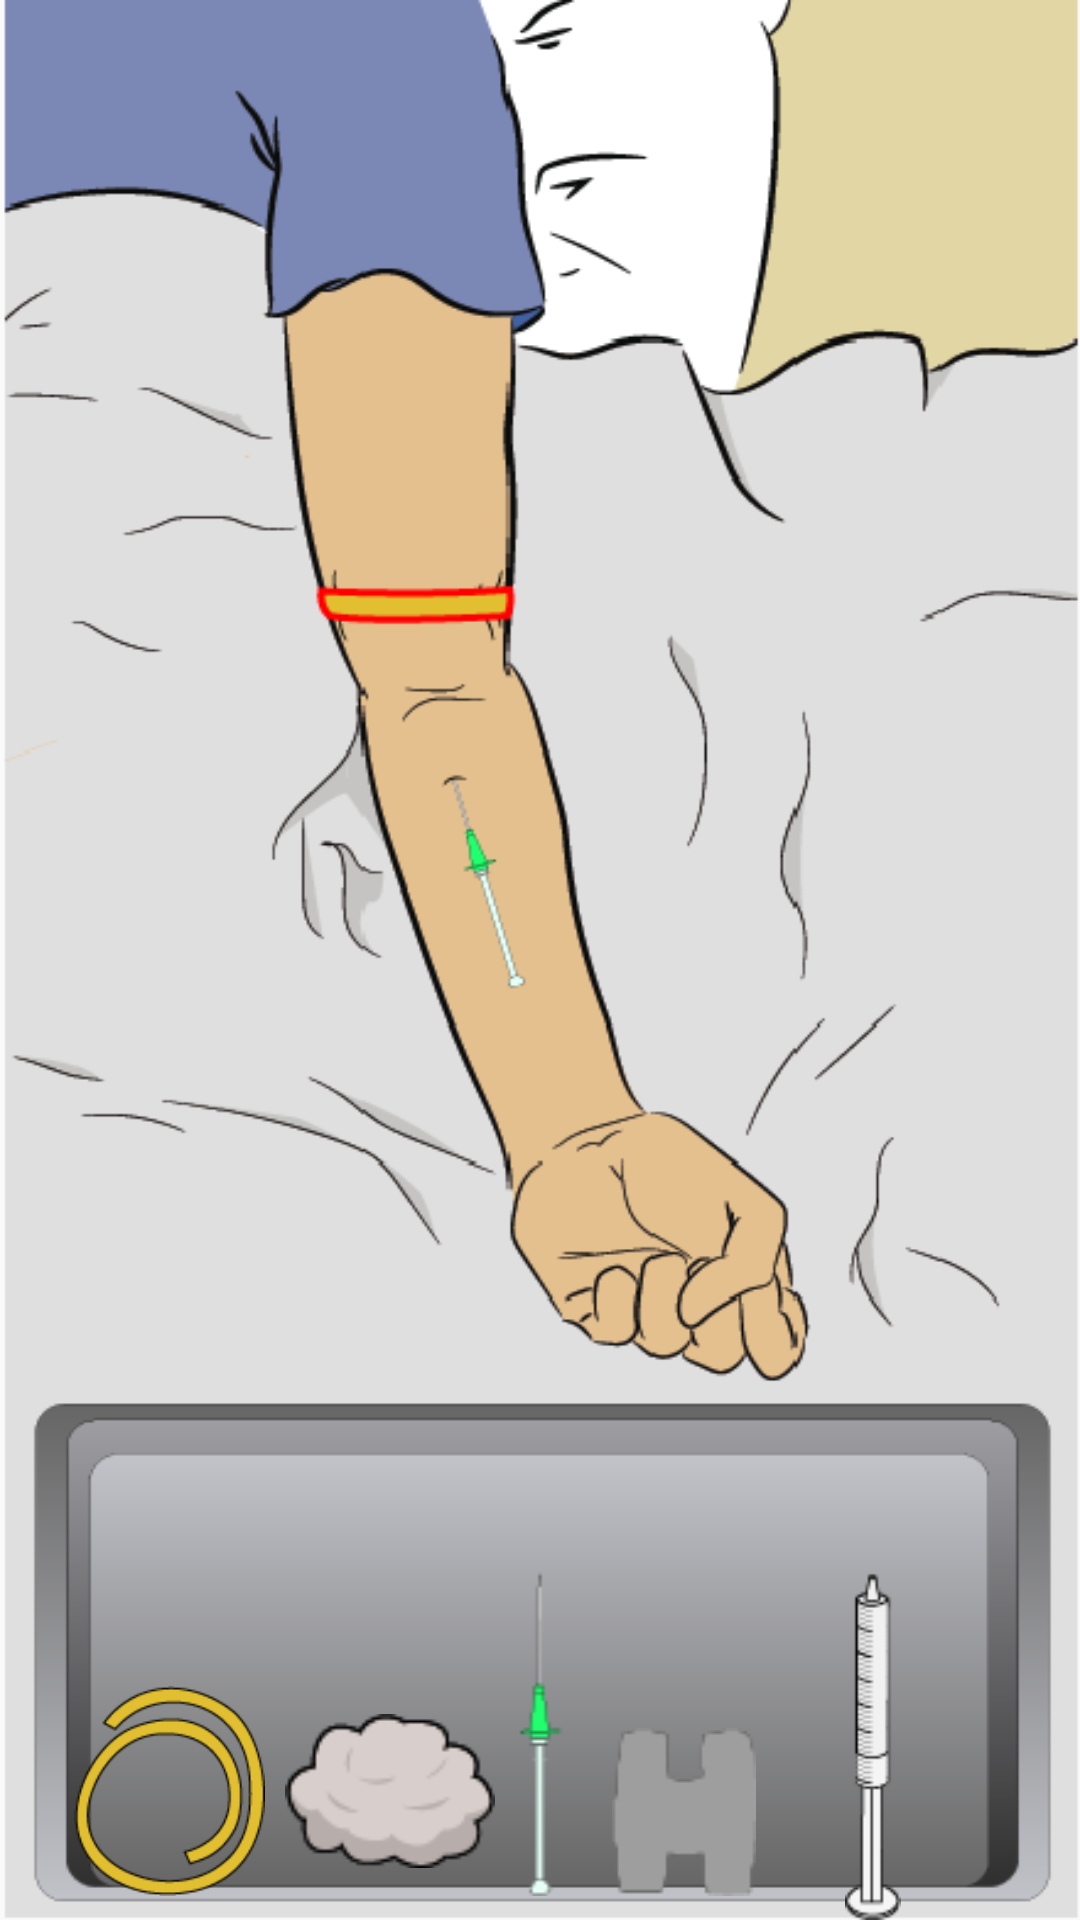

Point at icon controls on the screen. Image size 1080w x 1920h, points as [x,y].
algodao: [390,1791]
garrote: [169,1791]
